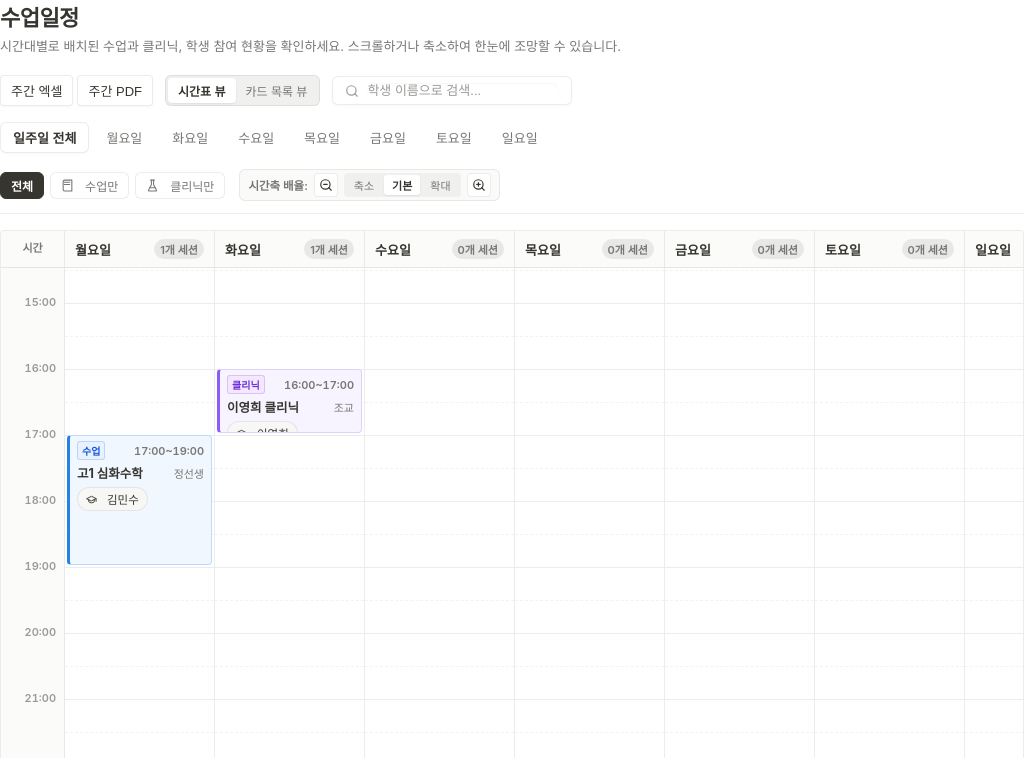
Test: WeeklySchedulePage › opens student side-peek panel when student chip is clicked
The image size is (1024, 758).
(page scrolled)
Click the button "김민수".
click(112, 499)  # box [77,487,148,511]
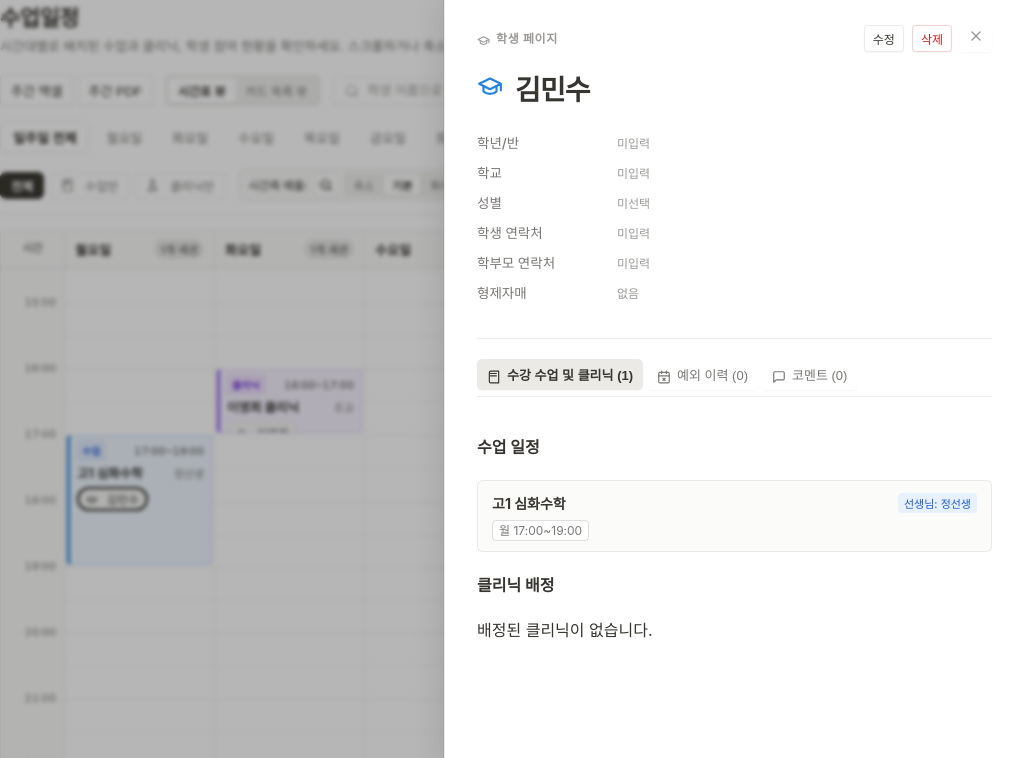
Now the text "학생 페이지" is shown, box [496,31,558,46]
Now the heading "김민수" is shown, box [515,68,590,108]
